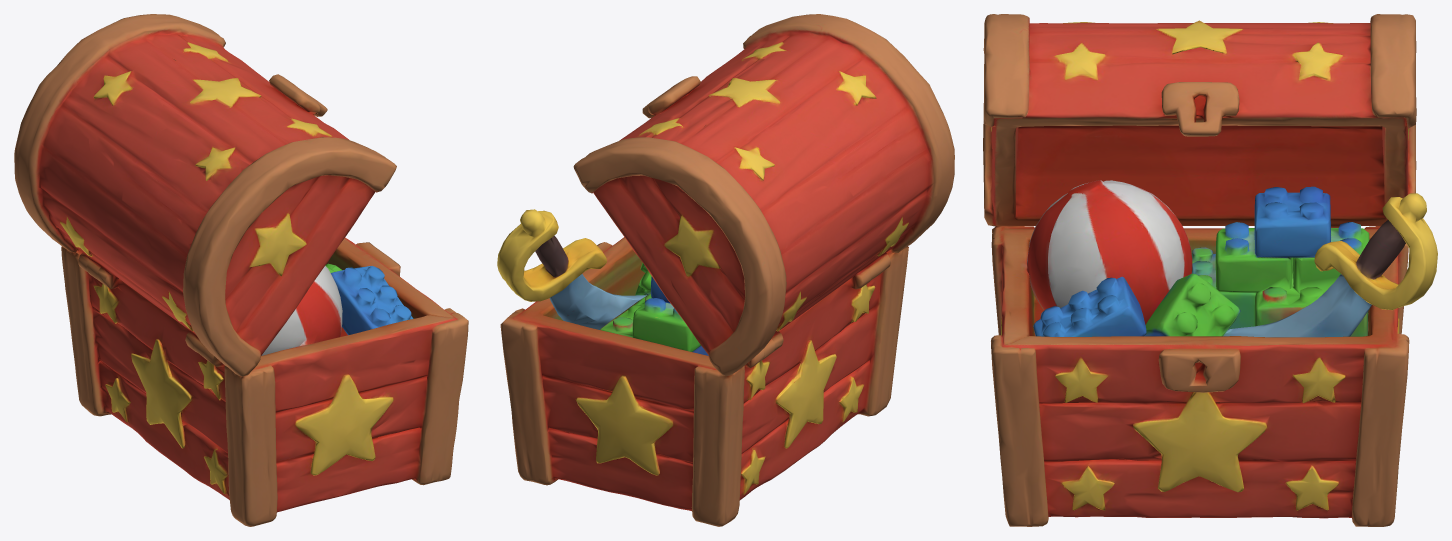
The model's file is toy_chest.glb.
3 views of the same model, side by side, from view 1: azimuth 30°, elevation 25°; view 2: azimuth 150°, elevation 25°; view 3: azimuth 270°, elevation 25° (orthographic). The views are drawn at different scales.
Visible parts, largest first — view 1: tripo_node_0d99b7af-51e9-4146-8425-7084c5cb2216; view 2: tripo_node_0d99b7af-51e9-4146-8425-7084c5cb2216; view 3: tripo_node_0d99b7af-51e9-4146-8425-7084c5cb2216.
Boxes of the visible parts, left/top/right/bottom form: tripo_node_0d99b7af-51e9-4146-8425-7084c5cb2216: left=14, top=14, right=468, bottom=526; tripo_node_0d99b7af-51e9-4146-8425-7084c5cb2216: left=497, top=14, right=954, bottom=526; tripo_node_0d99b7af-51e9-4146-8425-7084c5cb2216: left=983, top=14, right=1437, bottom=526.
Bounding box in the file's own units: 0.7876 × 1 × 0.9764.
1 material, 1 textured.
